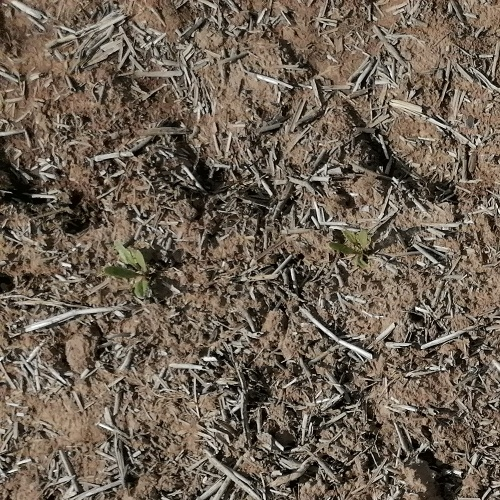beet: (103, 239, 152, 300), (329, 226, 371, 271)
